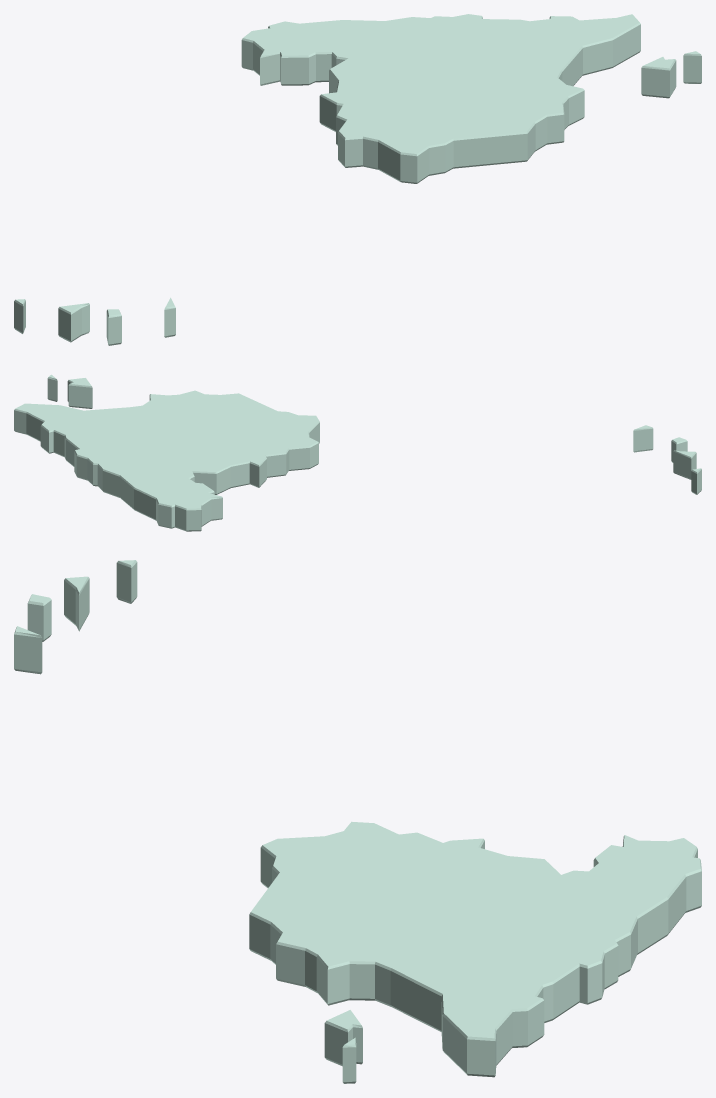
Rendered from ESP.glb.
3 views of the same model, one above another, from view 1: azimuth 30°, elevation 25°; view 2: azimuth 150°, elevation 25°; view 3: azimuth 270°, elevation 25° (orthographic). The views are drawn at different scales.
Bounding box in the file's own units: 1.82 × 0.068 × 1.09.
